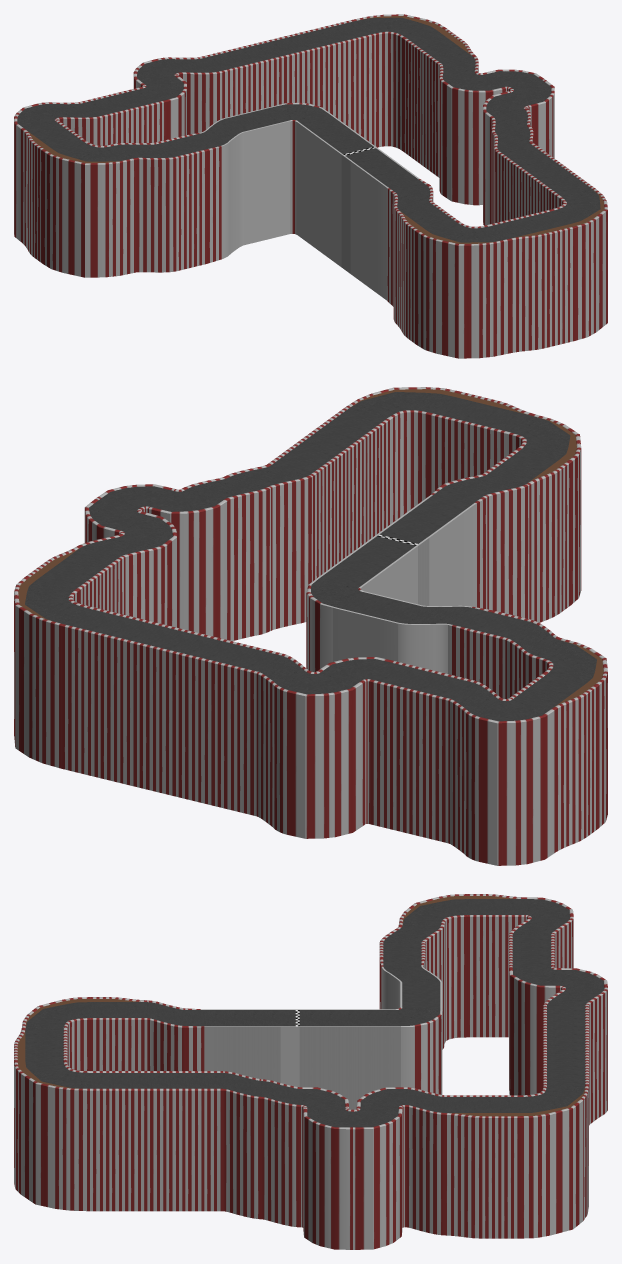
The model's file is KartTrack1.fbx.
The picture shows the model from 3 angles, top to bottom: view 1: azimuth 30°, elevation 25°; view 2: azimuth 150°, elevation 25°; view 3: azimuth 270°, elevation 25°; orthographic projection. The views are drawn at different scales.
Visible parts, largest first — view 1: TrackMesh; view 2: TrackMesh; view 3: TrackMesh.
Boxes of the visible parts, left/top/right/bottom form: TrackMesh: left=14, top=14, right=607, bottom=358; TrackMesh: left=14, top=387, right=607, bottom=865; TrackMesh: left=14, top=894, right=607, bottom=1249.
Size of the model in its own units: 146 by 35.17 by 156.
